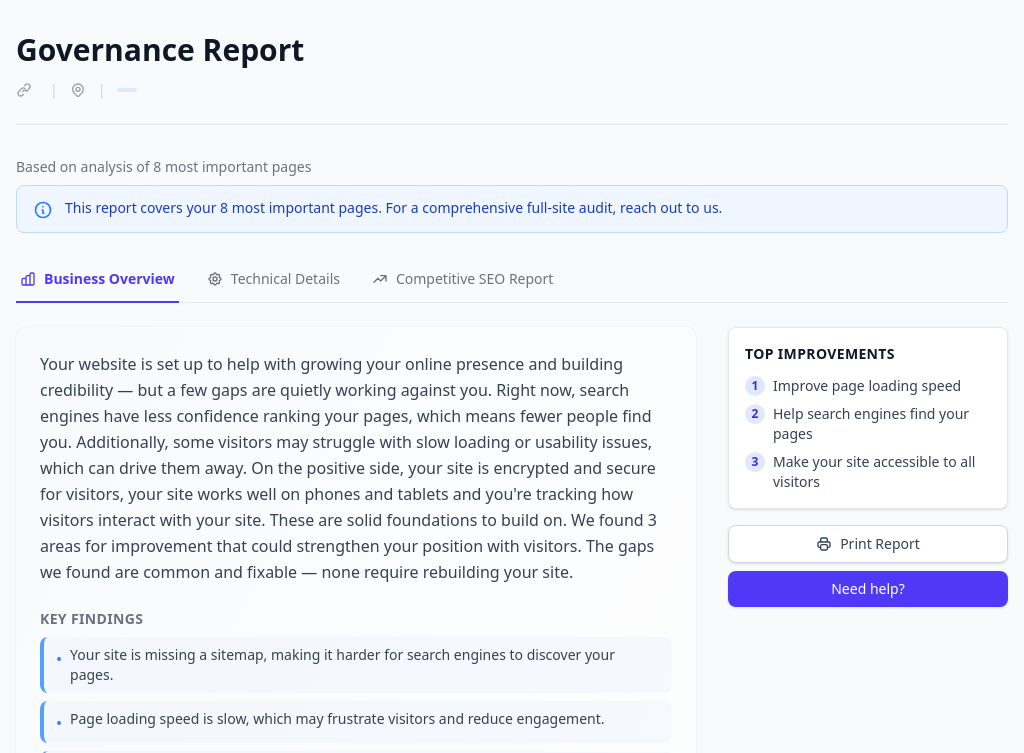
ReportPage (US-5.1) › shows technical details when Technical Details tab clicked
The image size is (1024, 753).
Note: Click Technical Details tab
Click the tab "Technical Details". click: (273, 280)
box: [203,257,344,303]
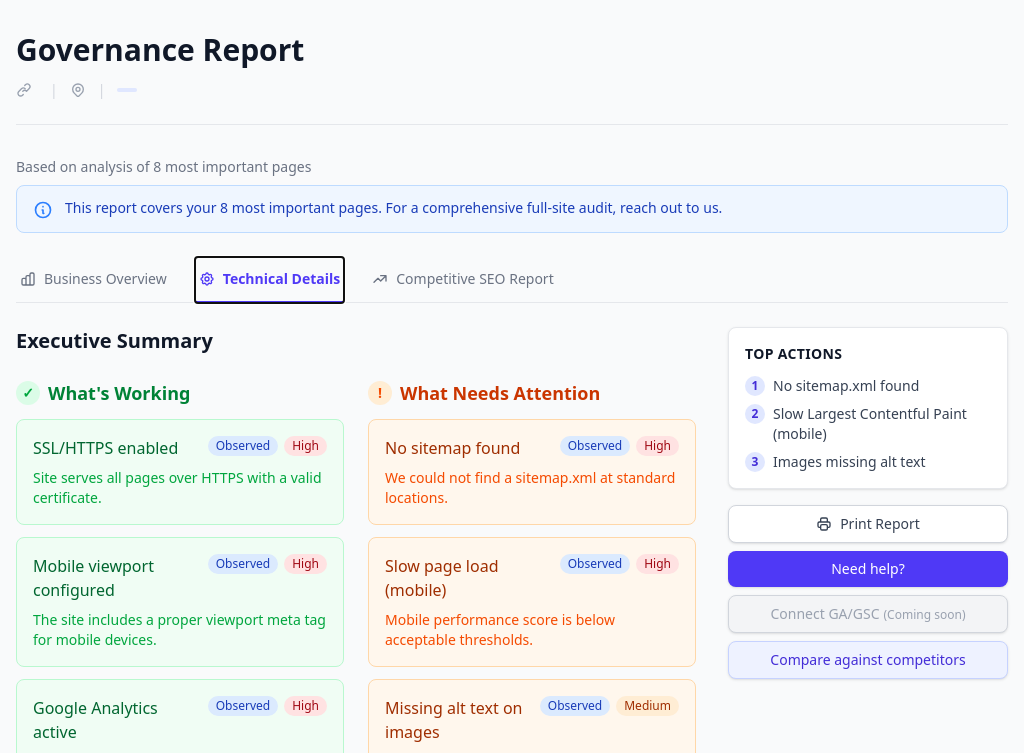
Now the heading "Executive Summary" is shown, box [16,327,213,354]
